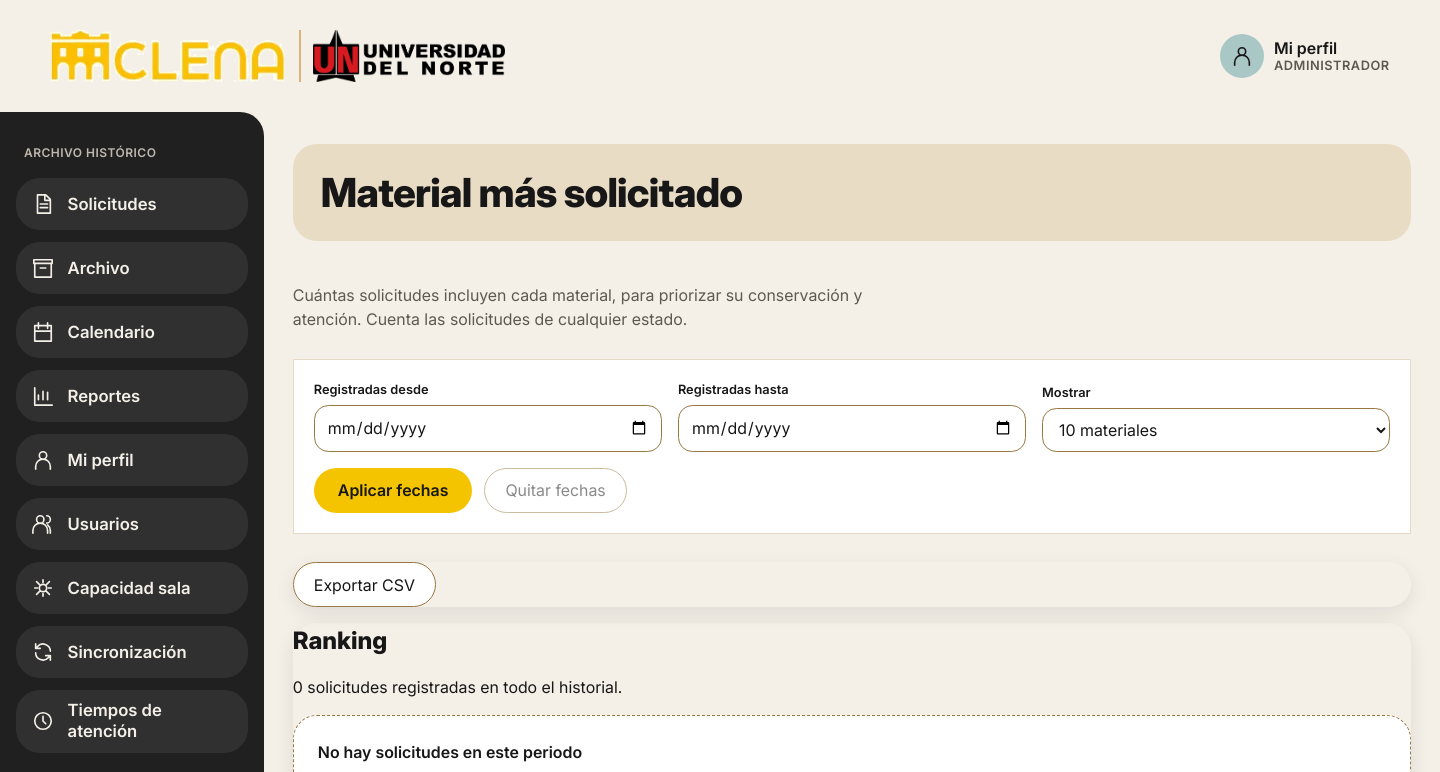
it: CSV export UI › downloads most-requested-materials with applied filters, ignoring edits not yet applied
Expected: the button "Exportar CSV" is enabled, [293,562,436,607]
In the date field labelled "Registradas desde": (488, 428) [314,405,662,452], type "2026-11-01"
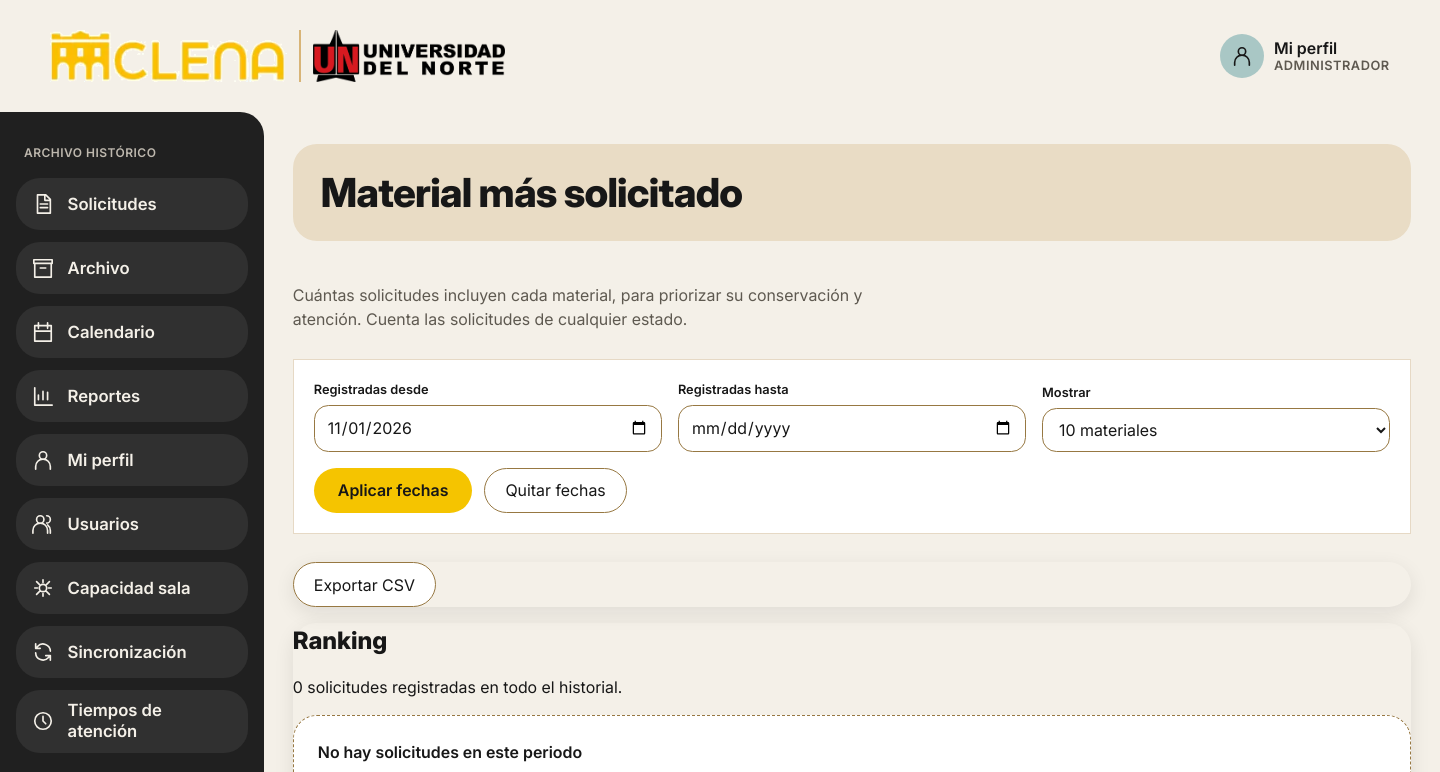
In the date field labelled "Registradas hasta": (852, 428) [678,405,1026,452], type "2026-11-30"
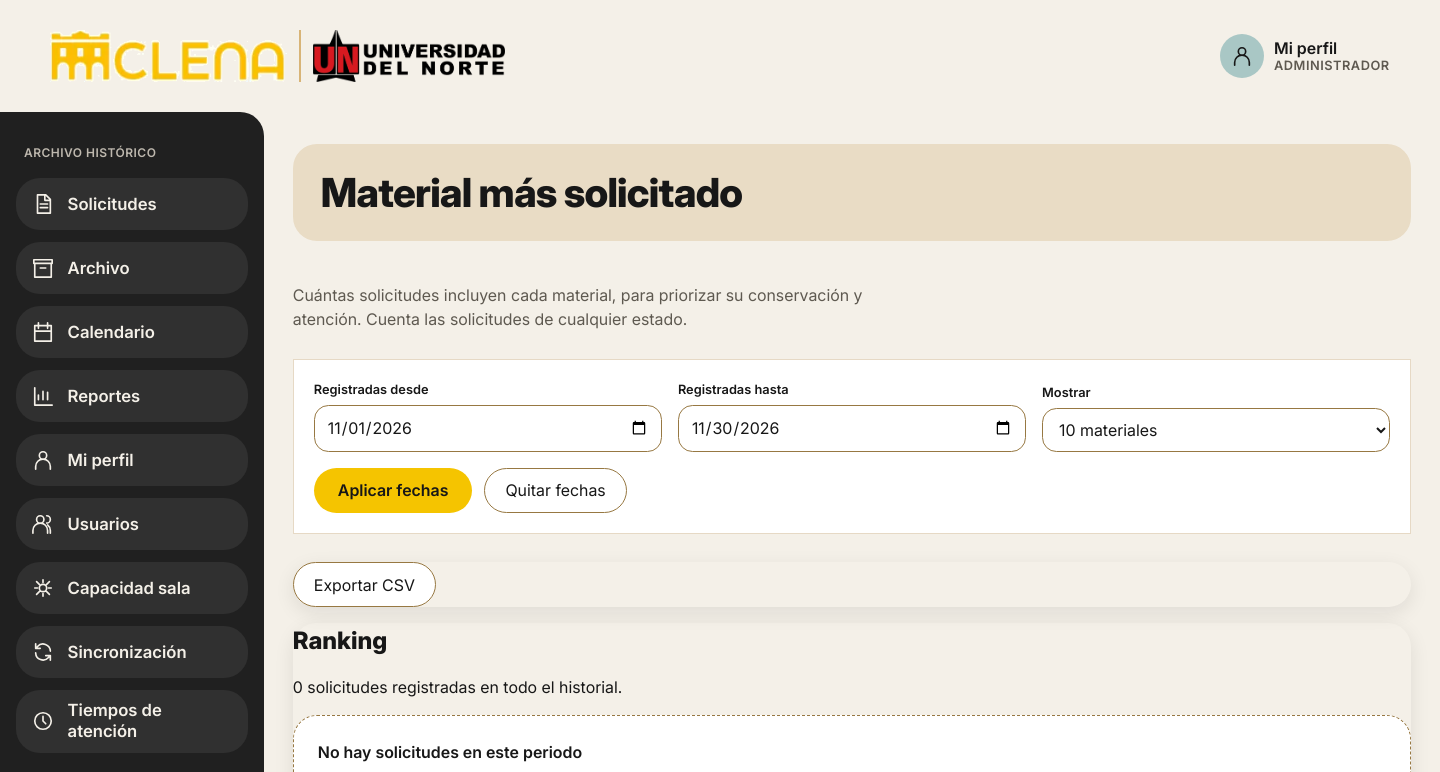
Select "20 materiales" in the dropdown labelled "Mostrar": (1216, 430) [1042,408,1390,452]
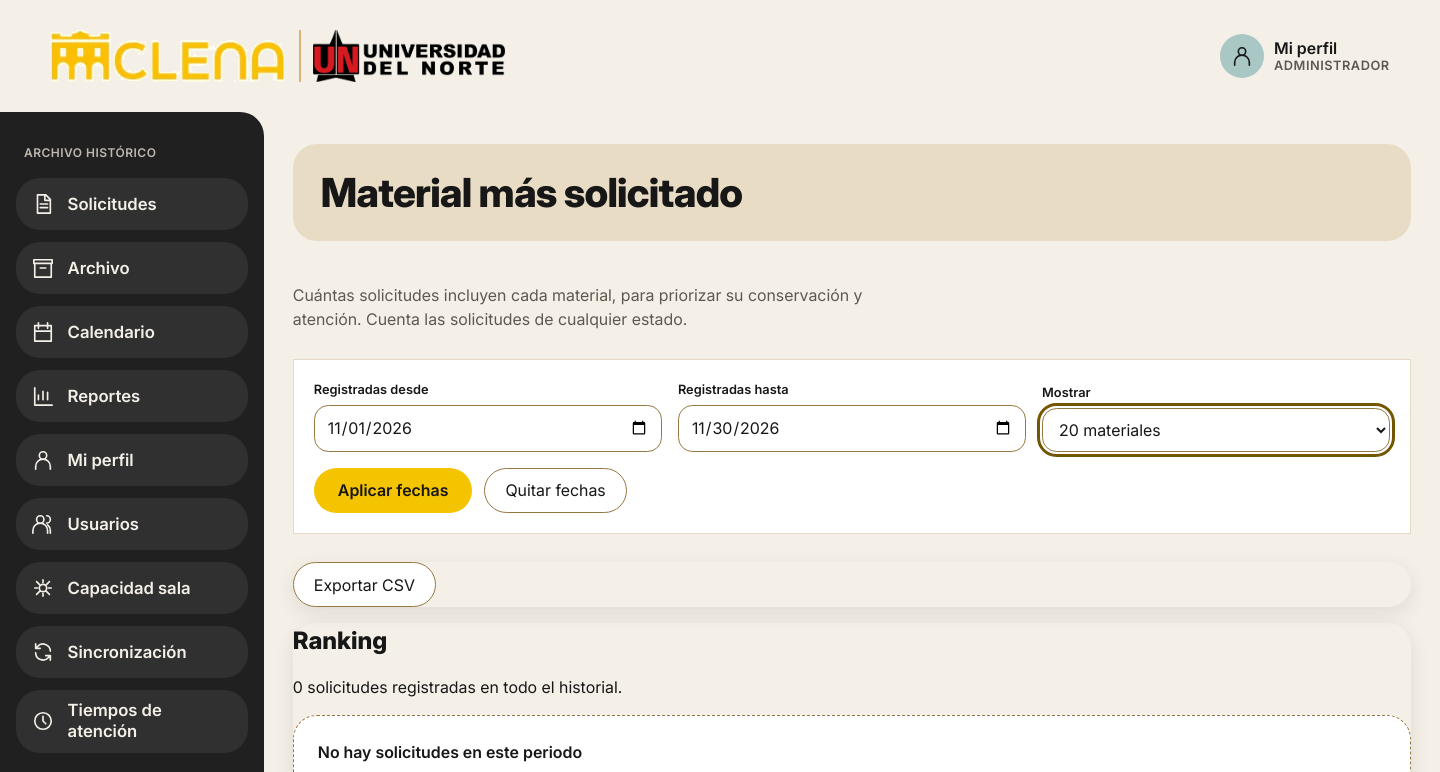
Click the button "Aplicar fechas": click(393, 490) [314,468,472,513]
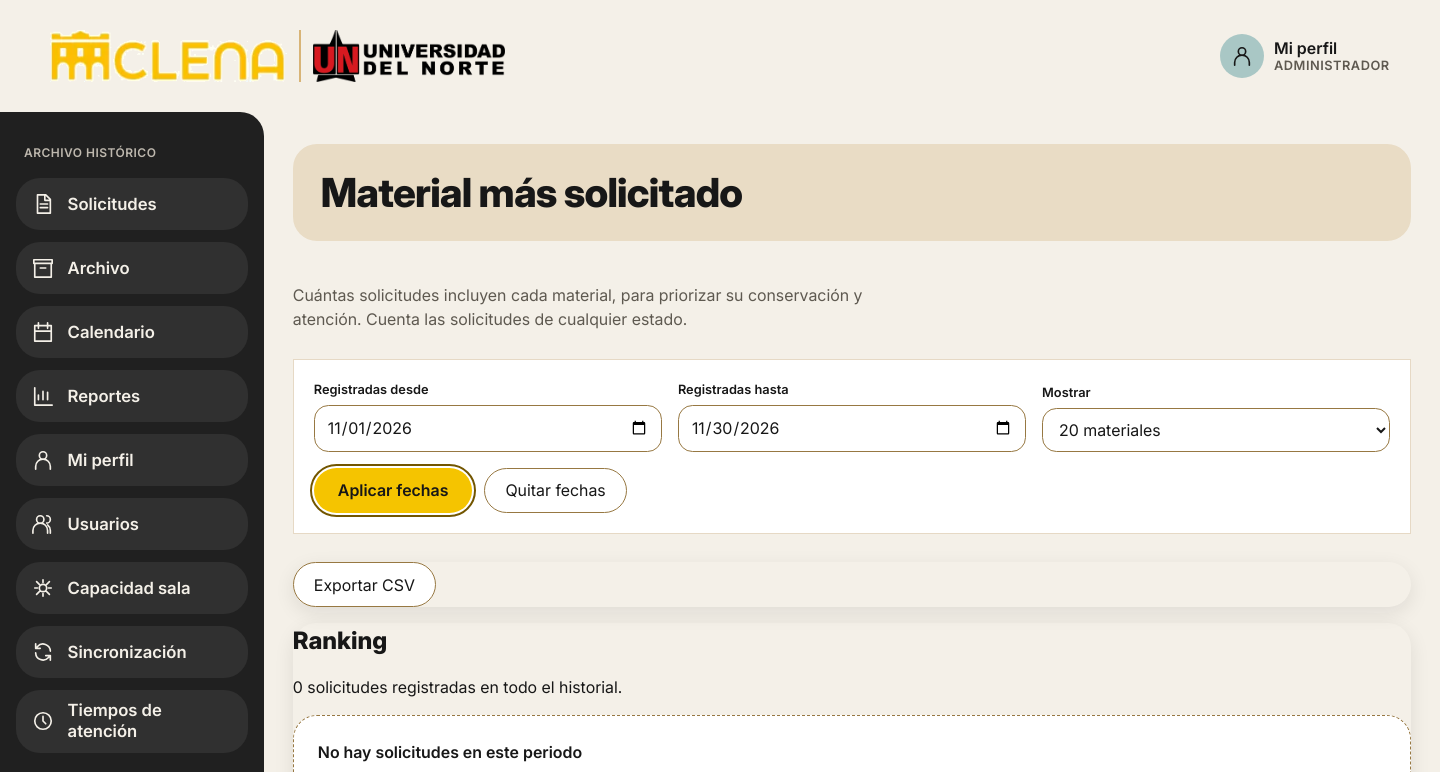
Expected: the button "Exportar CSV" is enabled, [293,562,436,607]
In the date field labelled "Registradas desde": (488, 428) [314,405,662,452], type "2027-01-01"
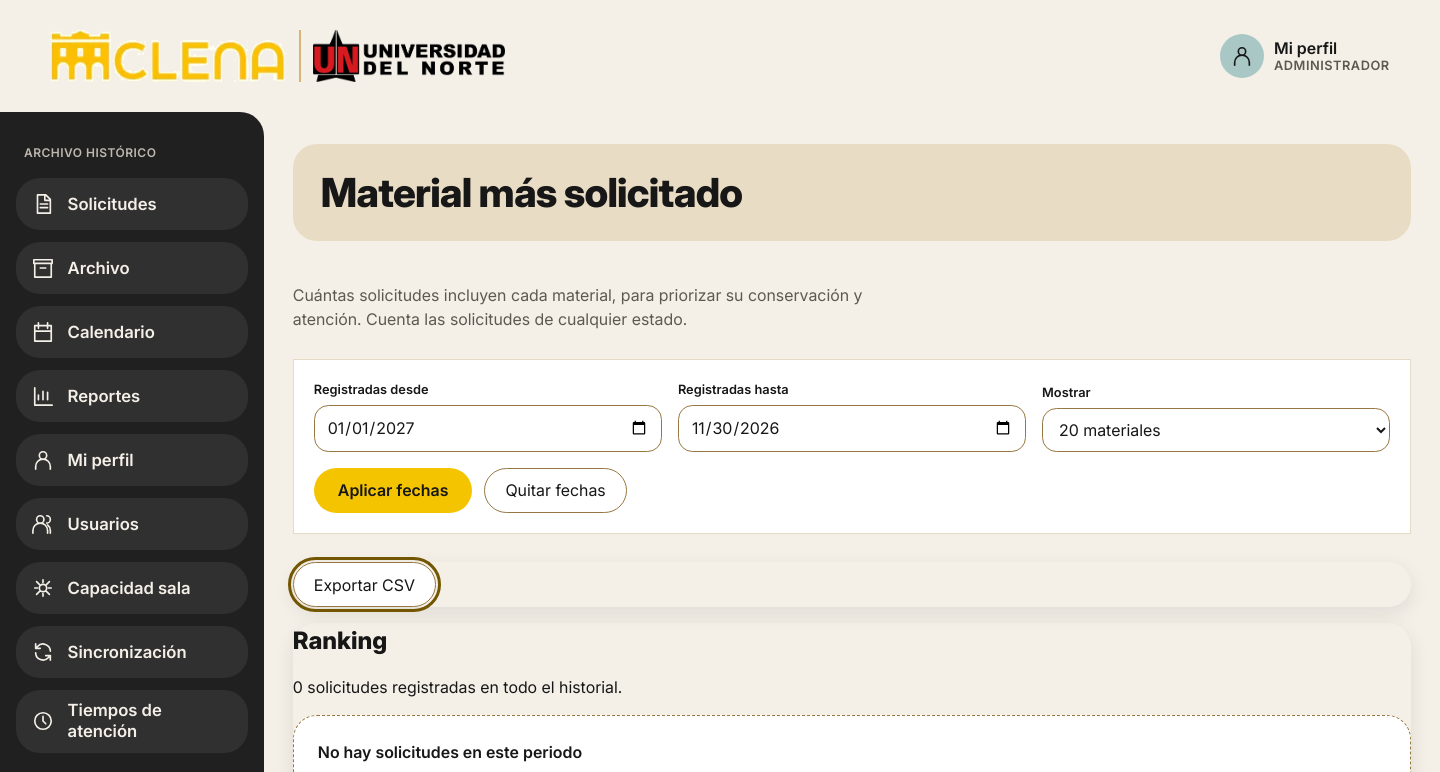
Press Enter
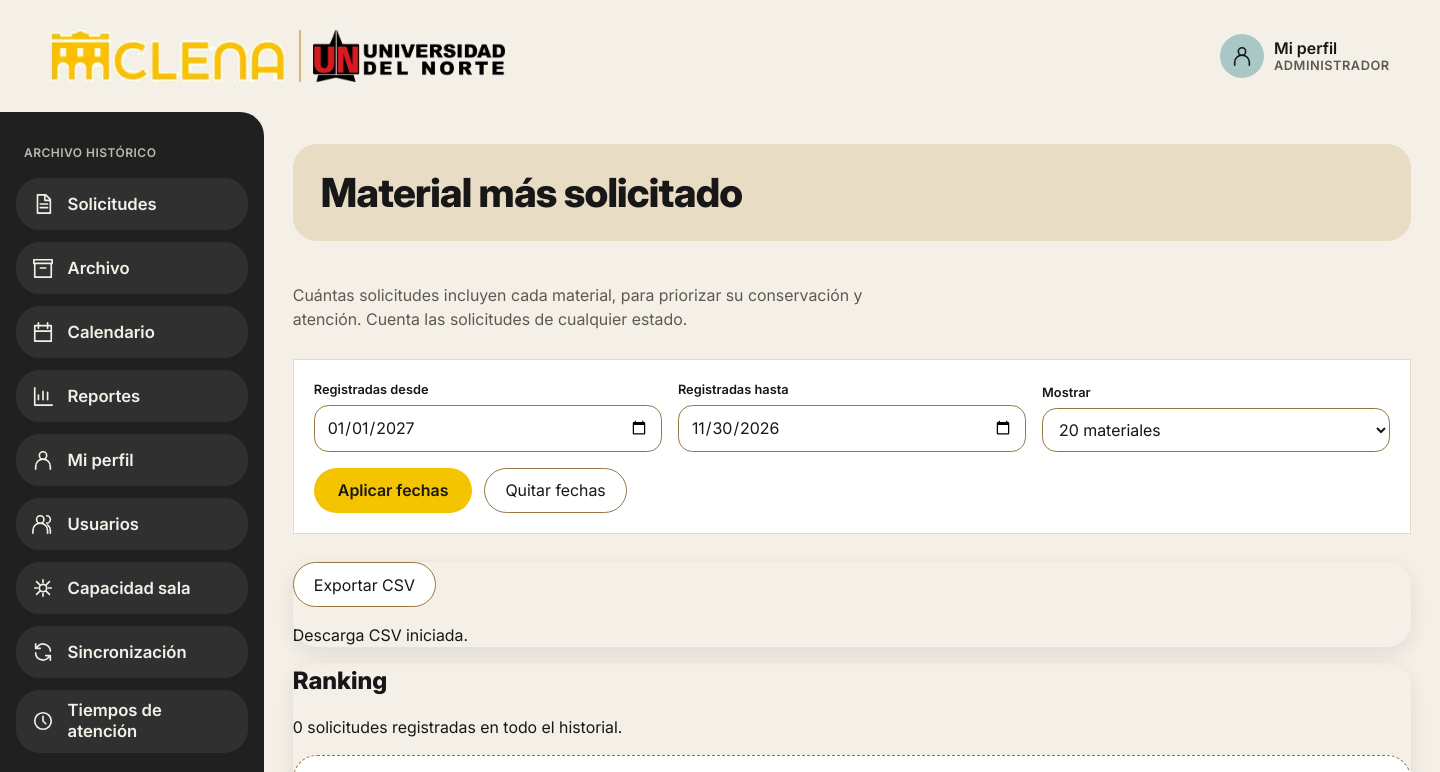
Result: the text "Descarga CSV iniciada." is shown at [293,623,468,647]
